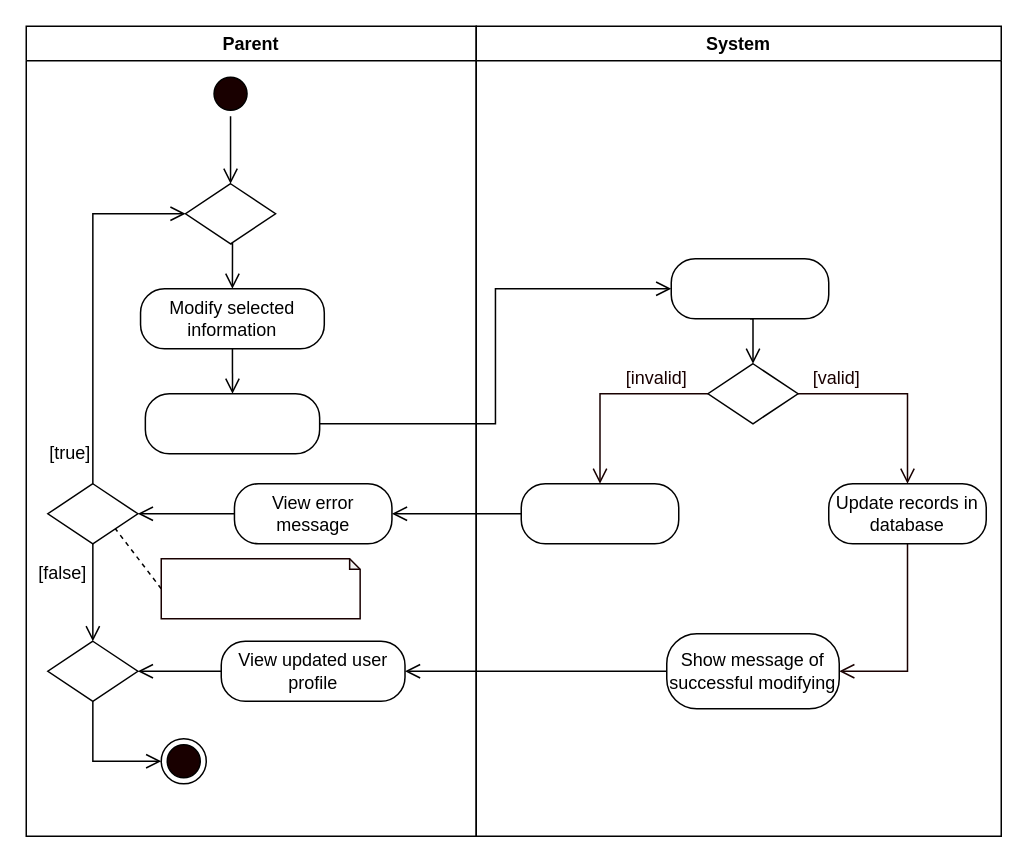
Some shapes in this 1029 by 863 pixel diagram are drawn without their labels. Each missing label, with the centre of its shape:
check if the user wants to input again: the point at 260,588
Show error message: the point at 599,513
Submit updated information: the point at 232,423
Validate updated information: the point at 749,288
